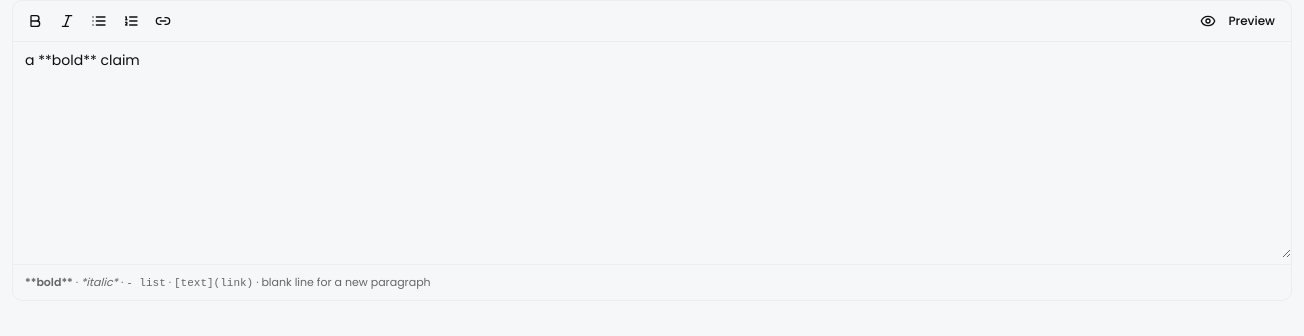
it: RichTextEditor › swaps the box for a rendered preview and back
What coordinates should you click on to do the following:
click the button "Preview"
I would click on:
 (1238, 21)
Its box is [1192,7,1283,35].
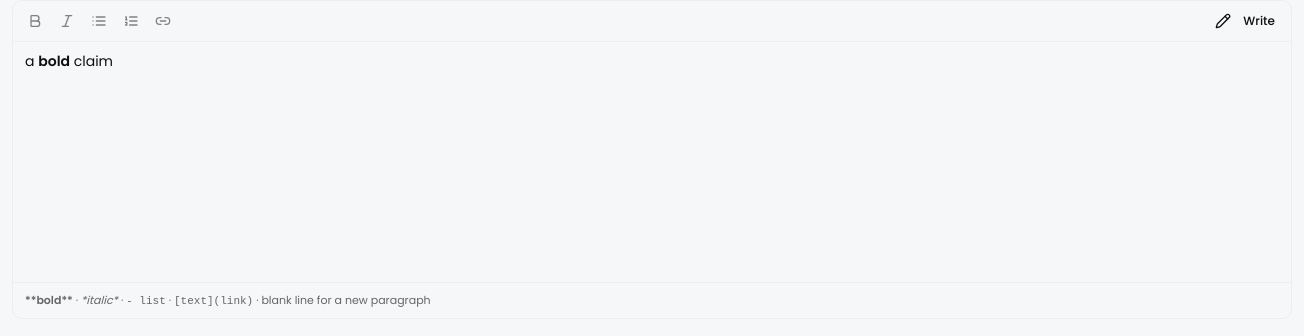
Now the text box is gone
Now the text "bold" is shown, box [38,51,70,71]
What coordinates should you click on to do the following:
click the button "Write"
I would click on:
 (1245, 21)
Its box is [1207,7,1283,35].
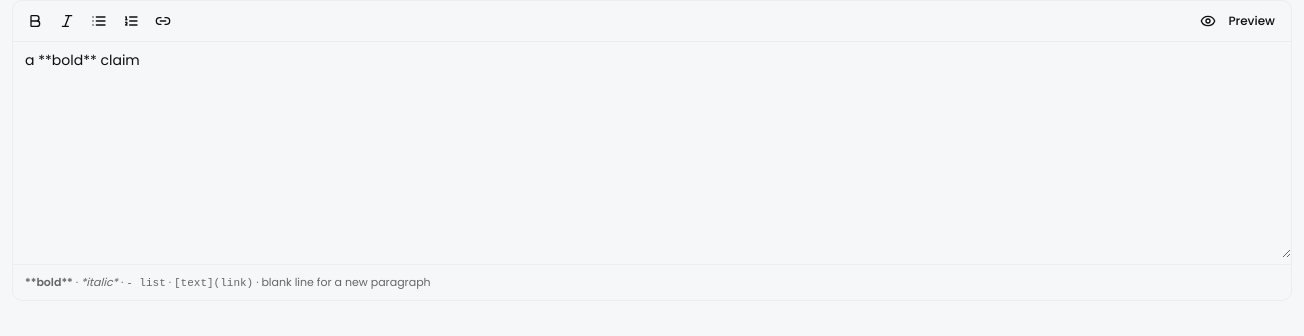
Now the text box is shown
